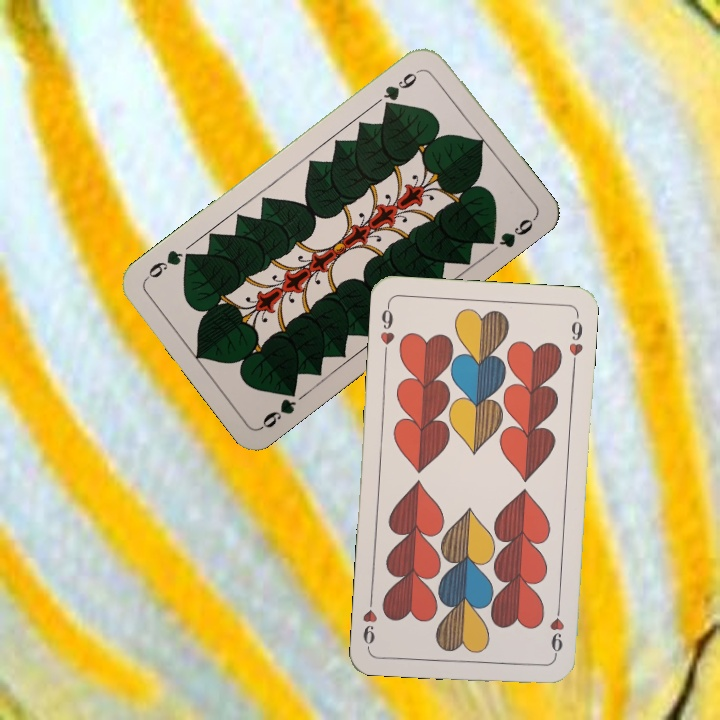G9: (257, 382, 300, 432), (379, 65, 424, 112)
H9: (376, 300, 397, 359), (546, 601, 567, 660)
